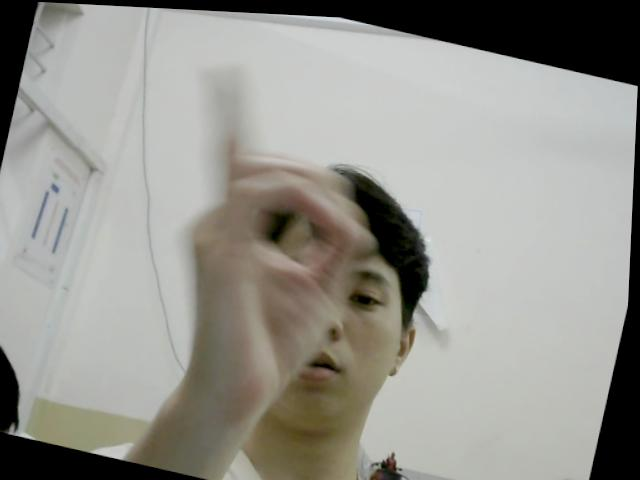D: (128, 45, 402, 420)
